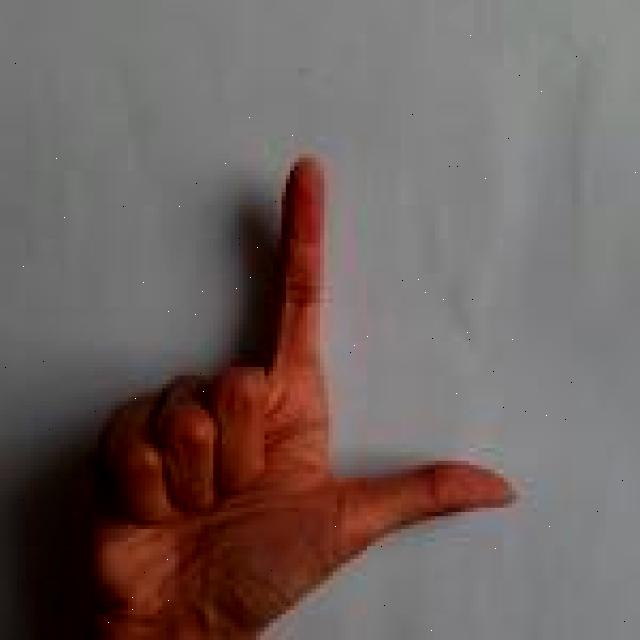L: (80, 141, 522, 640)
